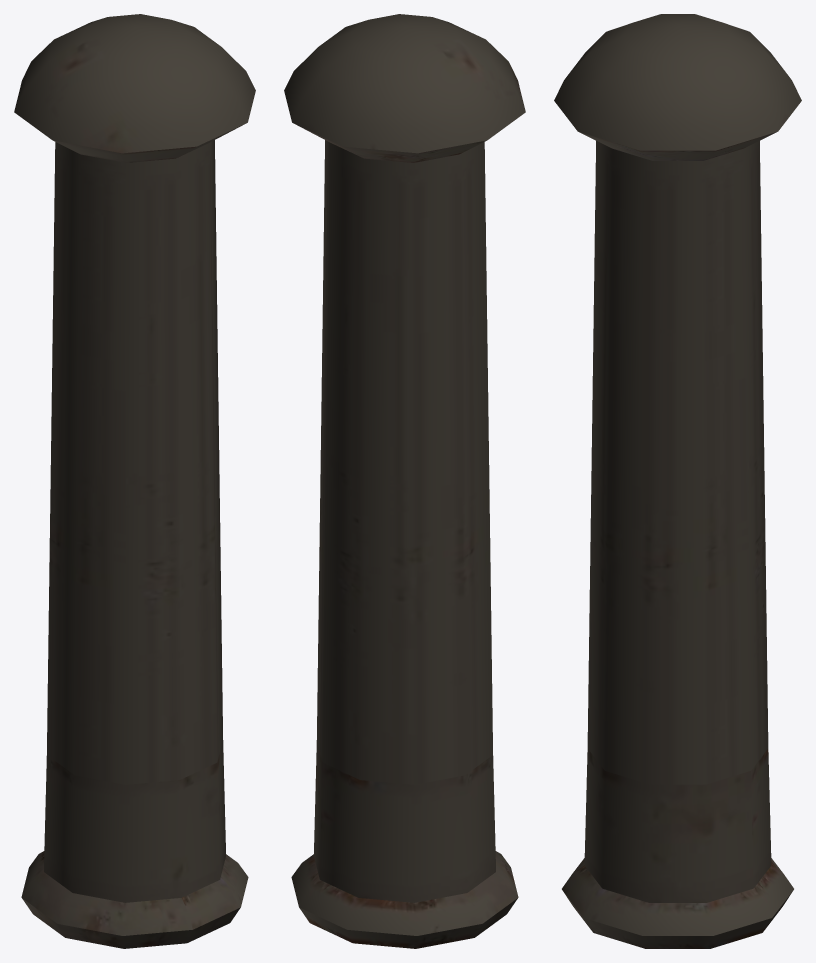
The model's file is Prop_Bollard.gltf.
3 renders of one model, left to right at view 1: azimuth 30°, elevation 25°; view 2: azimuth 150°, elevation 25°; view 3: azimuth 270°, elevation 25°, orthographic.
Visible parts, largest first — view 1: Prop_Bollard; view 2: Prop_Bollard; view 3: Prop_Bollard.
Boxes of the visible parts, x1,y1,x2,y2 form: Prop_Bollard: (14,14,255,948); Prop_Bollard: (284,14,525,948); Prop_Bollard: (554,14,801,948).
Bounding box in the file's own units: 0.2163 × 0.8918 × 0.2274.
Materials: 1 (1 with a texture image).
